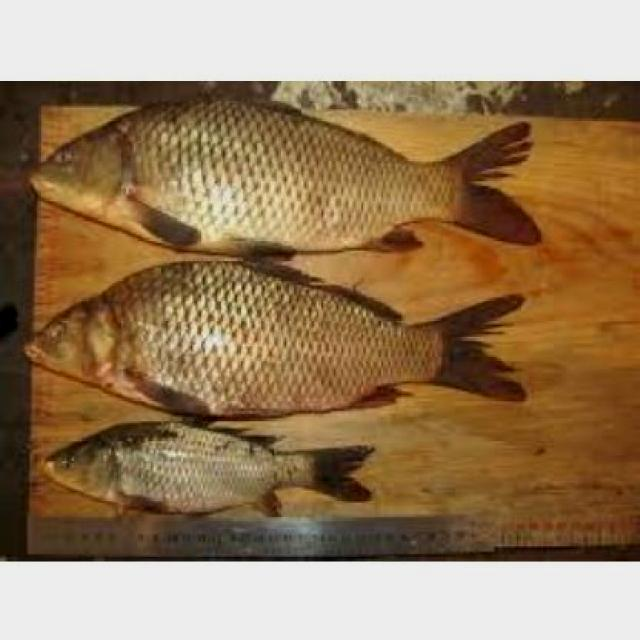ikan-mas: (32, 89, 537, 254), (27, 258, 516, 410), (46, 419, 372, 510)
